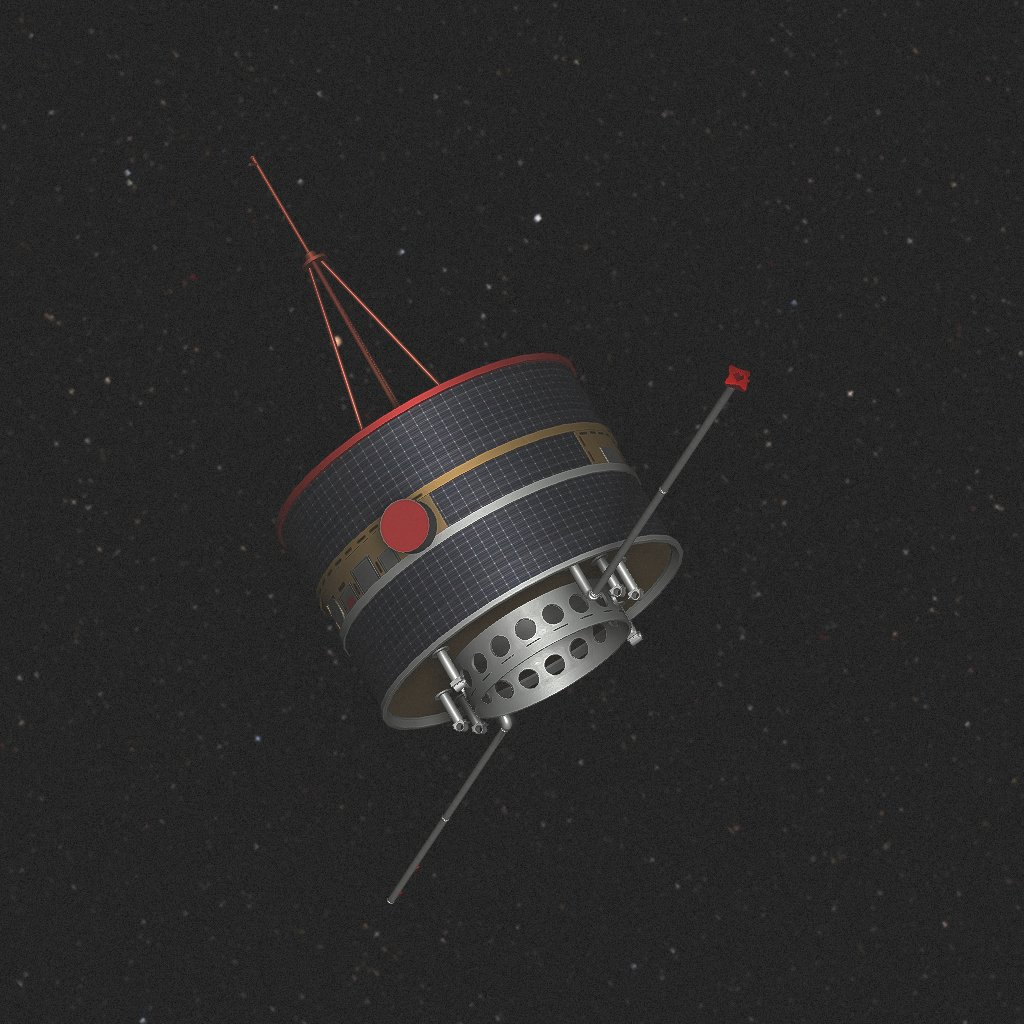double_star: (249, 156, 750, 904)
